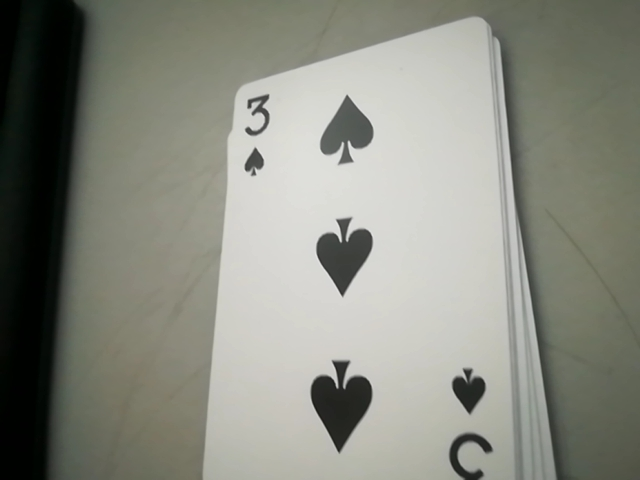ht 3: (441, 367, 507, 480)
